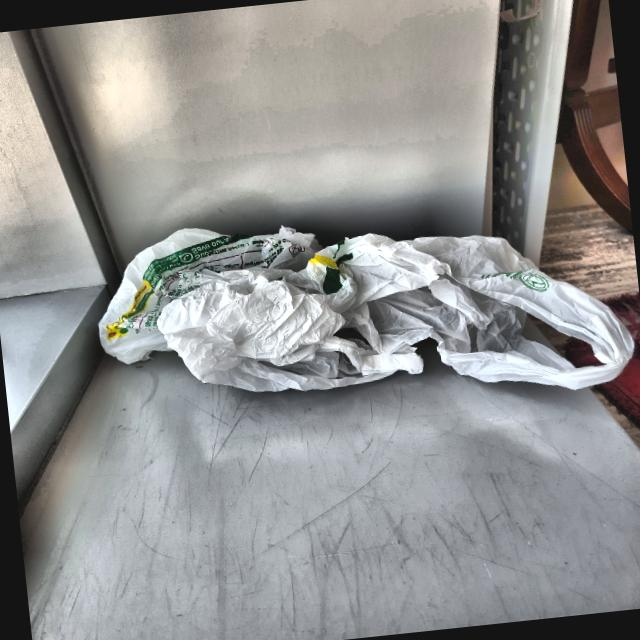plastic bag: (89, 183, 636, 450)
